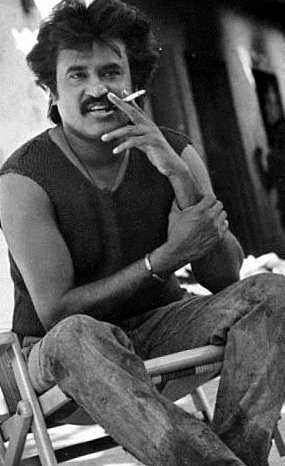cigarette: (115, 84, 152, 102)
